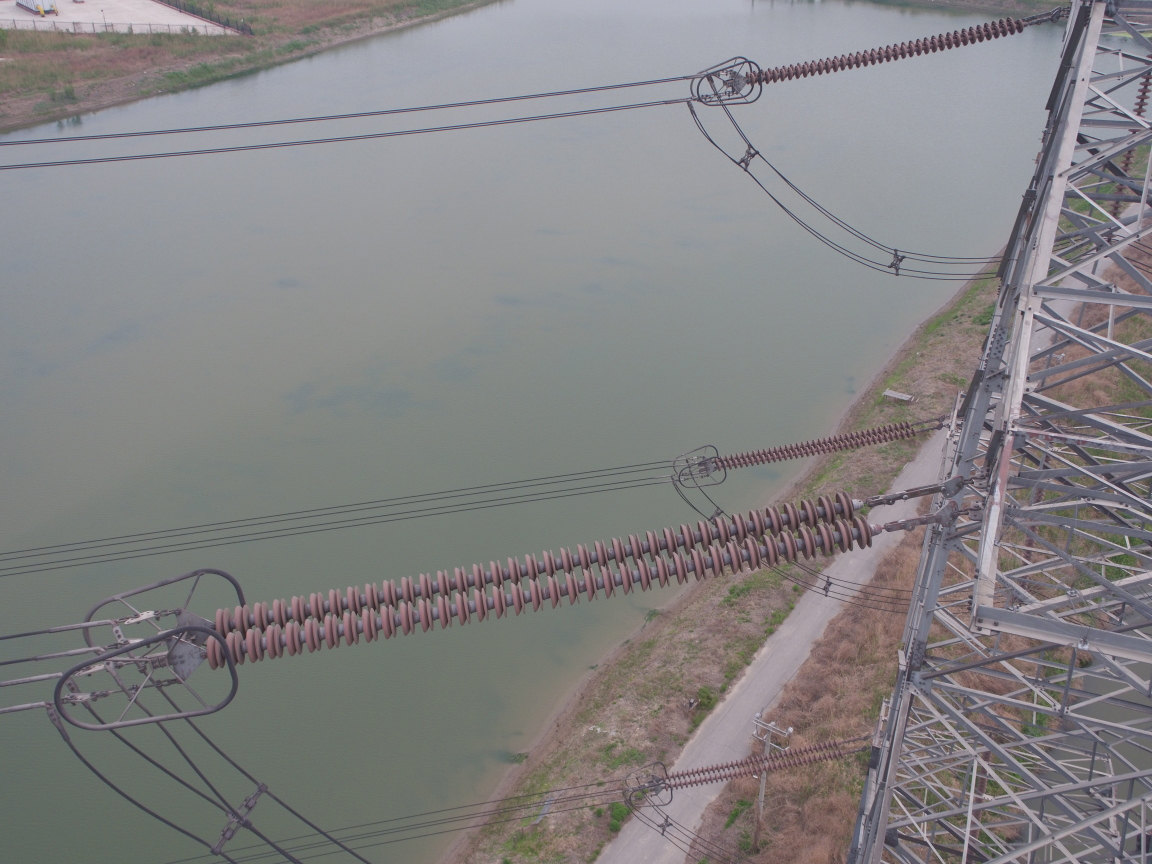insulator: (192, 488, 913, 673), (738, 14, 1041, 85), (707, 417, 931, 474), (658, 735, 865, 794)
